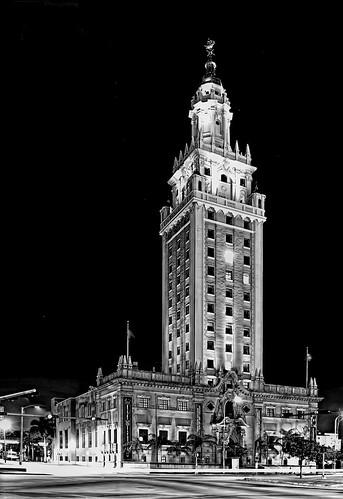building: (155, 68, 269, 449)
